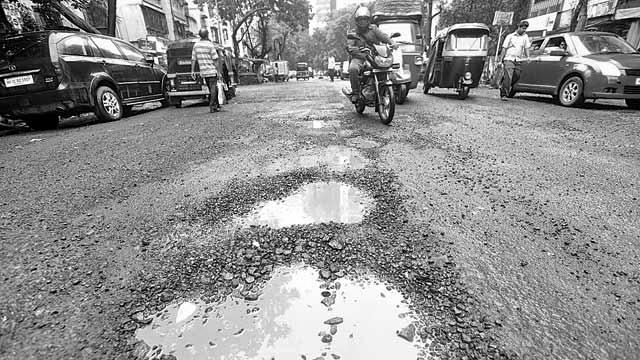Pothole: (130, 236, 480, 360), (228, 172, 402, 234), (273, 105, 357, 138), (339, 128, 385, 154)
